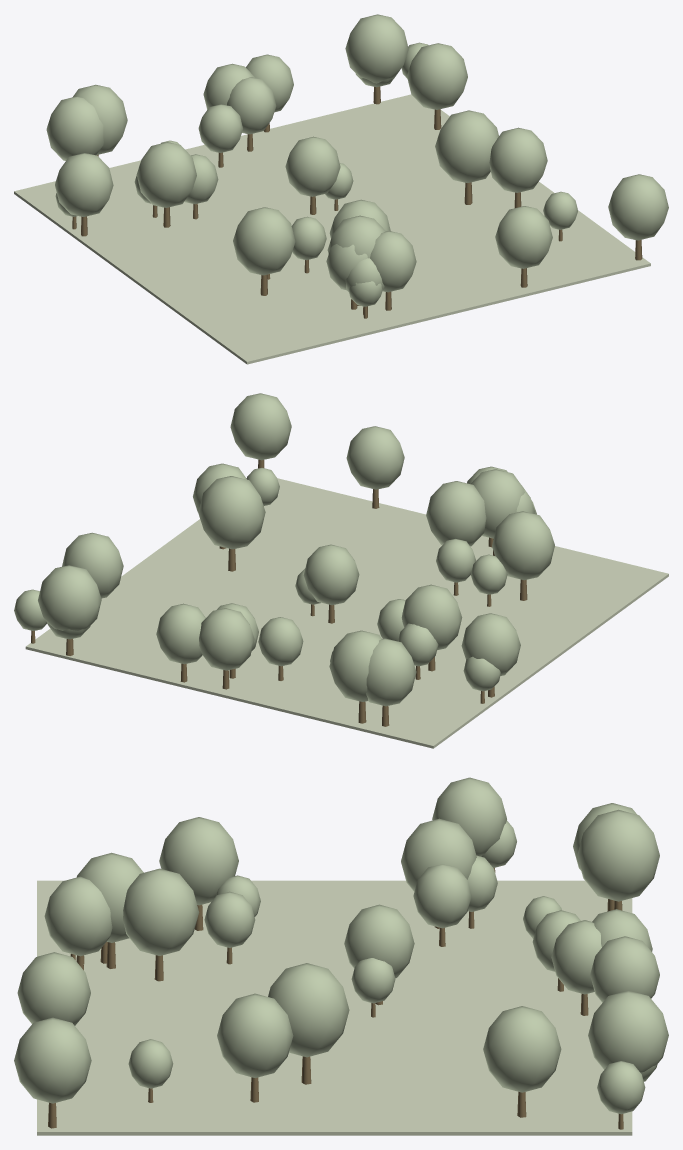
3 renders of one model, top to bottom at view 1: azimuth 30°, elevation 25°; view 2: azimuth 150°, elevation 25°; view 3: azimuth 270°, elevation 25°, orthographic. The views are drawn at different scales.
Visible parts, largest first — view 1: terrain, lod-near-6, lod-near-15, lod-near-18, lod-near-3, lod-near-16, lod-near-28, lod-near-26, lod-near-27, lod-near-13, lod-near-1, lod-near-17 (+15 smaller); view 2: terrain, lod-near-6, lod-near-15, lod-near-18, lod-near-16, lod-near-22, lod-near-13, lod-near-12, lod-near-1, lod-near-17, lod-near-28, lod-near-27 (+13 smaller); view 3: terrain, lod-near-21, lod-near-22, lod-near-6, lod-near-3, lod-near-16, lod-near-15, lod-near-26, lod-near-18, lod-near-13, lod-near-30, lod-near-27 (+17 smaller).
Part boxes in pixels (box(x1,y1,x2,y2)): terrain: box(14, 94, 650, 364); lod-near-6: box(435, 110, 498, 182); lod-near-15: box(345, 14, 408, 83); lod-near-18: box(233, 207, 295, 275); lod-near-3: box(407, 43, 467, 109); lod-near-16: box(608, 174, 668, 240); lod-near-28: box(136, 142, 196, 207); lod-near-26: box(489, 127, 547, 192); lod-near-27: box(55, 153, 113, 216); lod-near-13: box(495, 206, 552, 268); lod-near-1: box(46, 96, 103, 160); lod-near-17: box(285, 136, 340, 196); terrain: box(25, 478, 668, 748); lod-near-6: box(198, 476, 265, 549); lod-near-15: box(38, 565, 101, 630); lod-near-18: box(492, 511, 554, 580); lod-near-16: box(230, 393, 291, 460); lod-near-22: box(426, 481, 486, 546); lod-near-13: box(346, 426, 404, 489); lod-near-12: box(199, 608, 254, 670); lod-near-1: box(366, 638, 416, 706); lod-near-17: box(303, 544, 359, 605); lod-near-28: box(401, 584, 462, 650); lod-near-27: box(461, 613, 520, 675); terrain: box(37, 880, 632, 1135); lod-near-21: box(577, 809, 659, 901); lod-near-22: box(123, 868, 199, 955); lod-near-6: box(268, 963, 349, 1057); lod-near-3: box(483, 1006, 561, 1092); lod-near-16: box(14, 1017, 91, 1103); lod-near-15: box(588, 990, 668, 1072); lod-near-26: box(217, 993, 293, 1077); lod-near-18: box(159, 817, 238, 905); lod-near-13: box(17, 952, 90, 1025); lod-near-30: box(44, 876, 112, 956); lod-near-27: box(432, 777, 506, 856).
Bounding box in the file's own units: 35.1 × 7.23 × 35.21.
